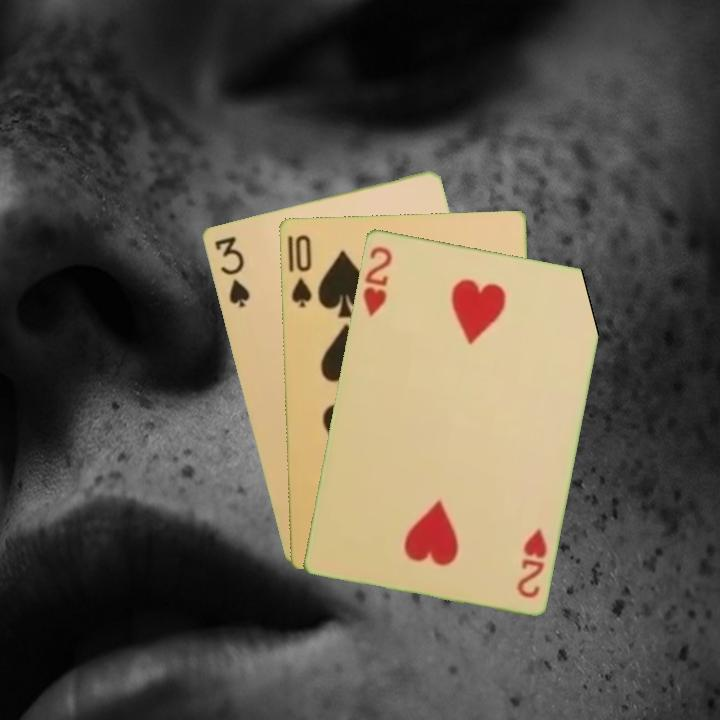10s: (287, 231, 314, 310)
2h: (512, 524, 550, 601), (359, 242, 395, 319)
3s: (210, 232, 253, 310)
